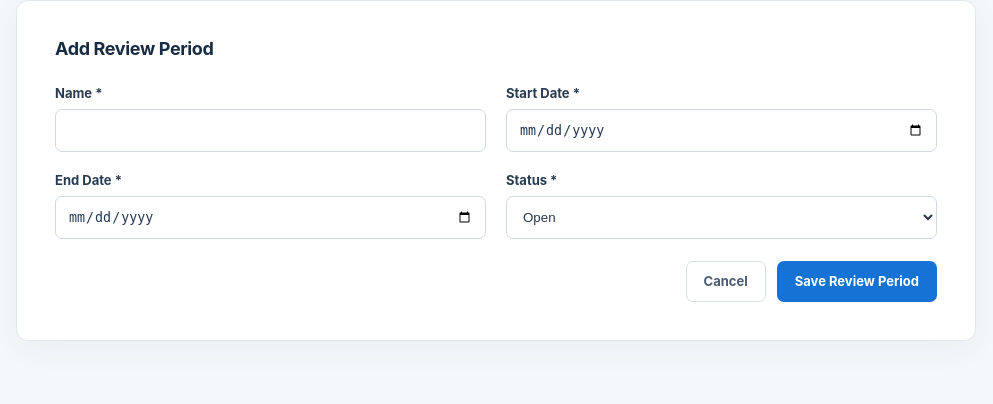
ReviewPeriodForm › rejects an end date that is before the start date
In the field labelled "Name *": (270, 130) [55,109,486,152], type "2026 H1"
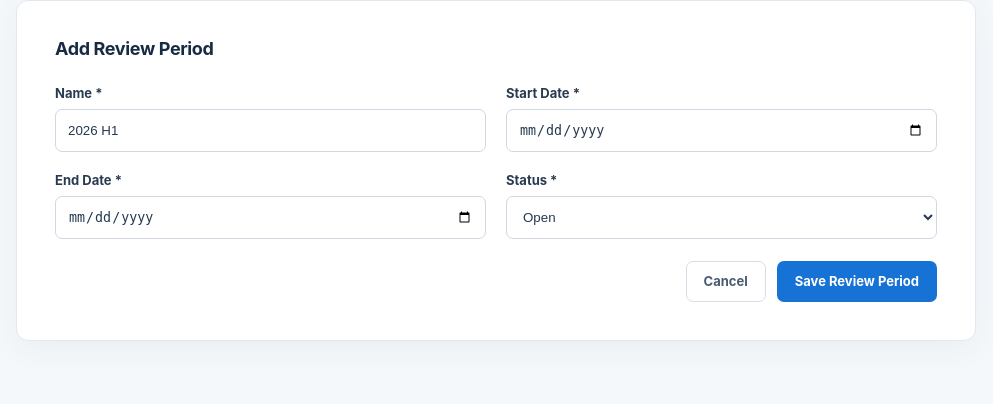
In the date field labelled "Start Date *": (722, 130) [506,109,937,152], type "2026-06-30"
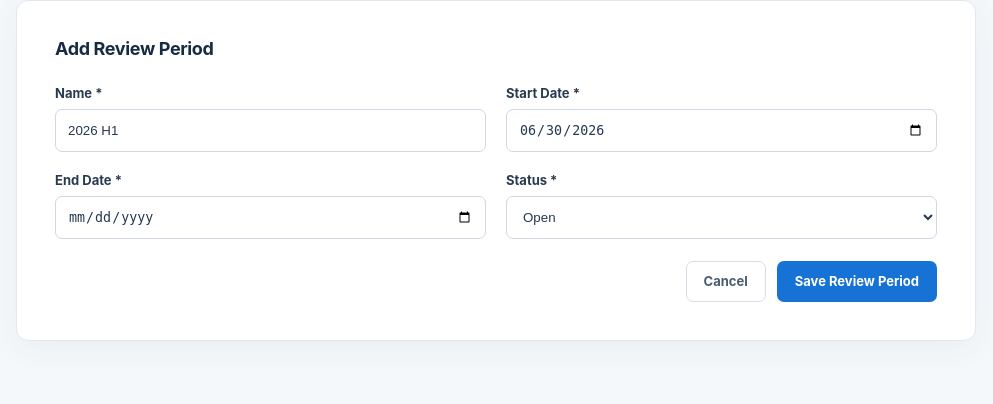
In the date field labelled "End Date *": (270, 217) [55,196,486,239], type "2026-01-01"
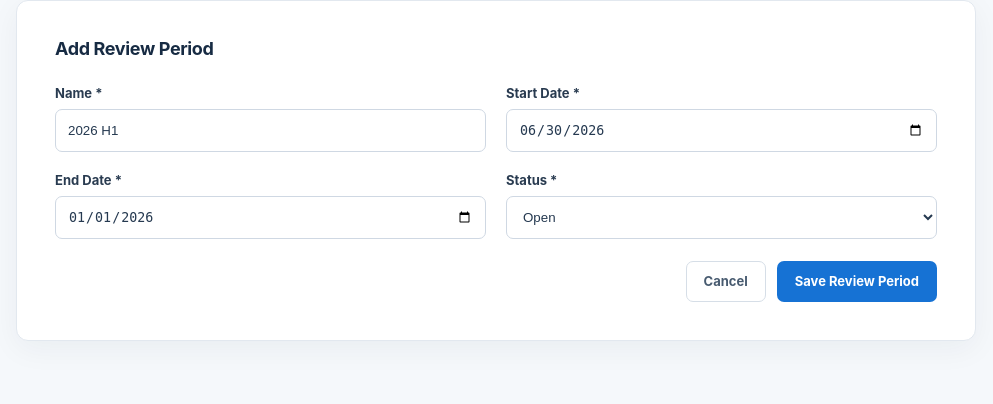
Click the button "Save Review Period": (857, 281) [777,261,937,302]
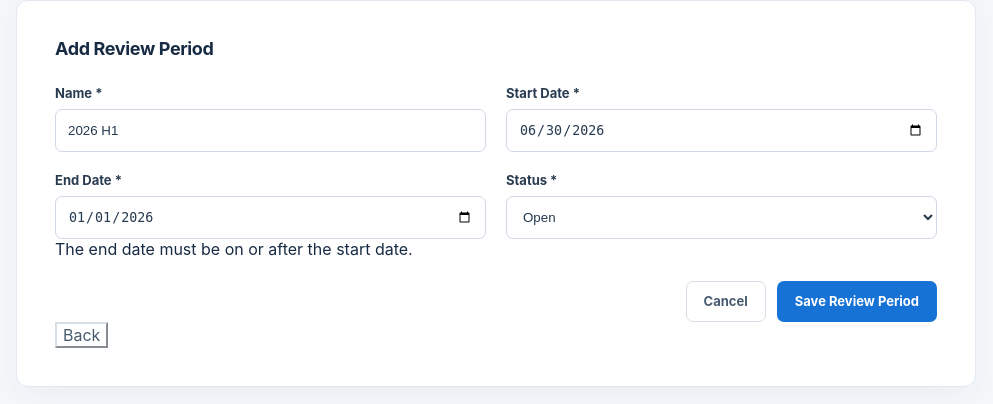
expect the message reads "The end date must be on or after the start date.": met, box [55,239,413,259]
